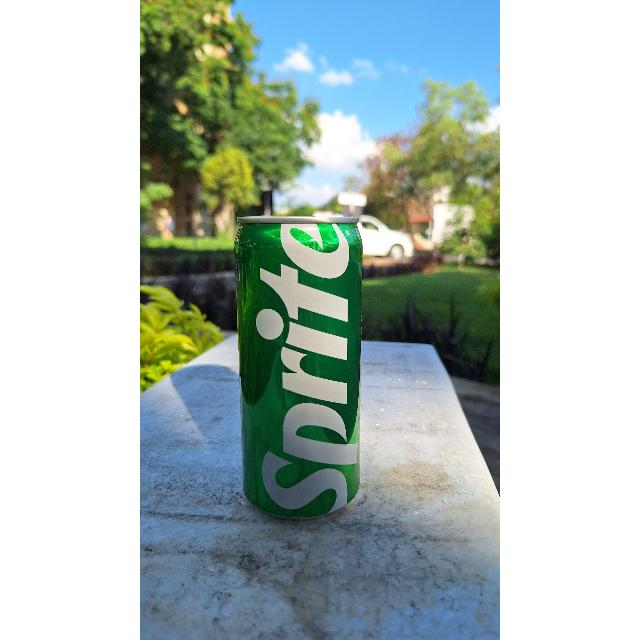Sprite: (241, 210, 367, 516)
